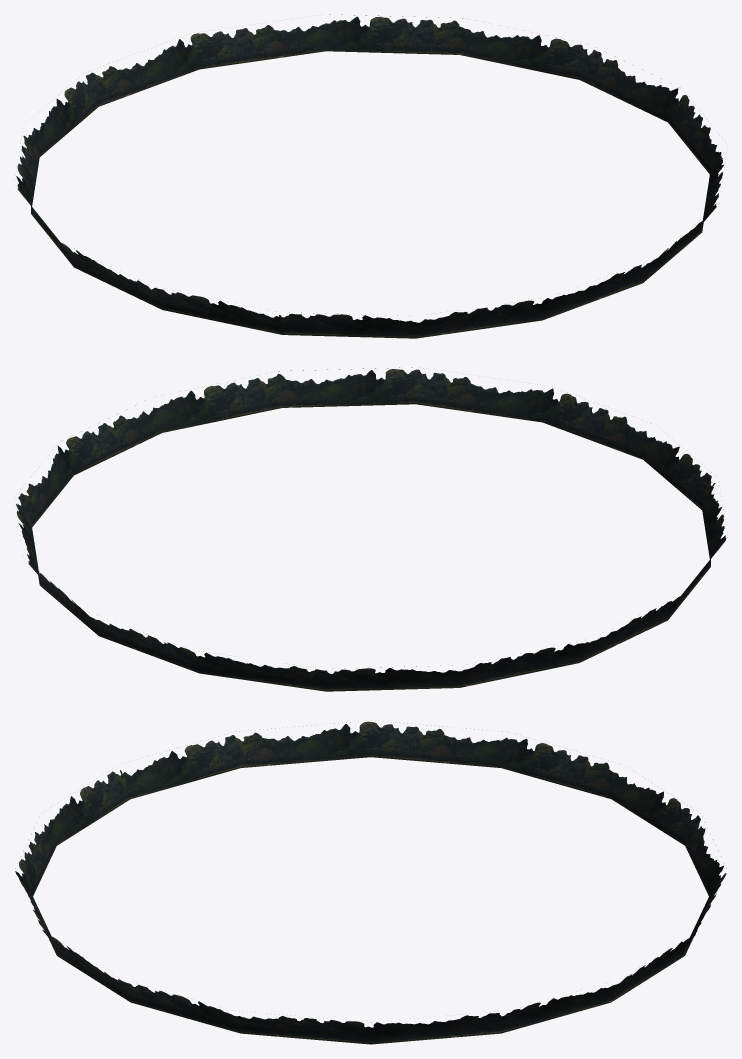
File: FarBackground2.fbx
The picture shows the model from 3 angles, top to bottom: view 1: azimuth 30°, elevation 25°; view 2: azimuth 150°, elevation 25°; view 3: azimuth 270°, elevation 25°; orthographic projection.
Visible parts, largest first — view 1: SM_d_114_Far_02a.001; view 2: SM_d_114_Far_02a.001; view 3: SM_d_114_Far_02a.001.
Boxes of the visible parts, left/top/right/bottom form: SM_d_114_Far_02a.001: left=16, top=14, right=723, bottom=338; SM_d_114_Far_02a.001: left=16, top=367, right=726, bottom=691; SM_d_114_Far_02a.001: left=15, top=721, right=726, bottom=1044.
Size of the model in its own units: 428 by 19.58 by 428.
